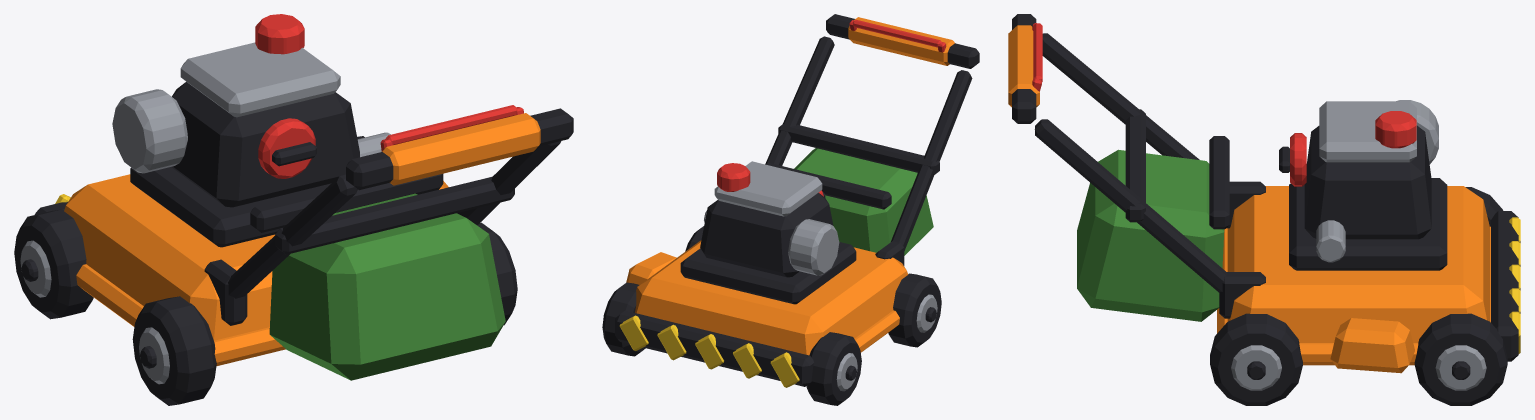
The model's file is tool_pushmower.glb.
3 renders of one model, left to right at view 1: azimuth 30°, elevation 25°; view 2: azimuth 150°, elevation 25°; view 3: azimuth 270°, elevation 25°, orthographic. The views are drawn at different scales.
Parts seen in each view (by area): view 1: SmoothPlastic__24242A, Fabric__468C3C, SmoothPlastic__FF8A1C, Metal__969AA2, SmoothPlastic__E2342E; view 2: SmoothPlastic__24242A, SmoothPlastic__FF8A1C, Metal__969AA2, Fabric__468C3C, SmoothPlastic__FACD28, SmoothPlastic__E2342E; view 3: SmoothPlastic__24242A, SmoothPlastic__FF8A1C, Fabric__468C3C, Metal__969AA2, SmoothPlastic__E2342E, SmoothPlastic__FACD28.
Part boxes in pixels (left/top/right/bottom): SmoothPlastic__24242A: left=14, top=82, right=573, bottom=405; Fabric__468C3C: left=269, top=193, right=505, bottom=380; SmoothPlastic__FF8A1C: left=64, top=113, right=540, bottom=366; Metal__969AA2: left=20, top=42, right=390, bottom=384; SmoothPlastic__E2342E: left=255, top=14, right=523, bottom=178; SmoothPlastic__24242A: left=602, top=14, right=979, bottom=405; SmoothPlastic__FF8A1C: left=626, top=17, right=954, bottom=355; Metal__969AA2: left=704, top=161, right=937, bottom=391; Fabric__468C3C: left=794, top=148, right=933, bottom=255; SmoothPlastic__FACD28: left=619, top=315, right=799, bottom=387; SmoothPlastic__E2342E: left=717, top=19, right=946, bottom=196; SmoothPlastic__24242A: left=1012, top=14, right=1518, bottom=405; SmoothPlastic__FF8A1C: left=1008, top=25, right=1490, bottom=373; Fabric__468C3C: left=1077, top=149, right=1224, bottom=321; Metal__969AA2: left=1231, top=100, right=1486, bottom=390; SmoothPlastic__E2342E: left=1032, top=23, right=1416, bottom=186; SmoothPlastic__FACD28: left=1509, top=217, right=1520, bottom=353.
Size of the model in its own units: 4.03 by 3.42 by 5.51.
